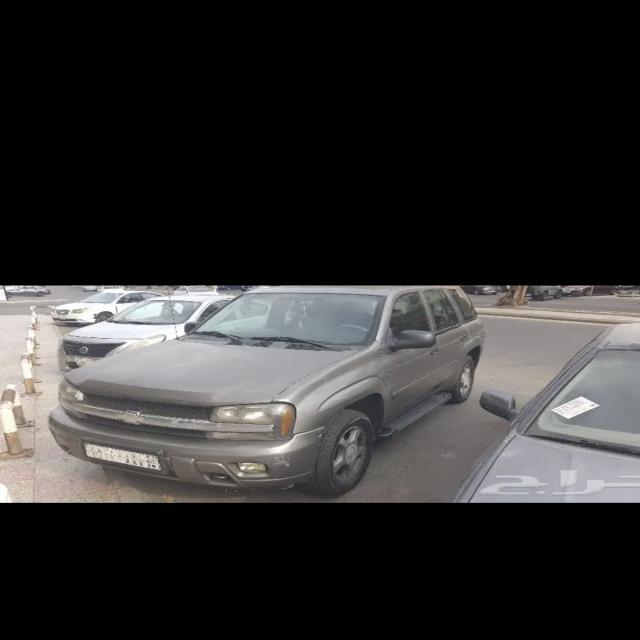license_plate: (84, 442, 165, 474)
